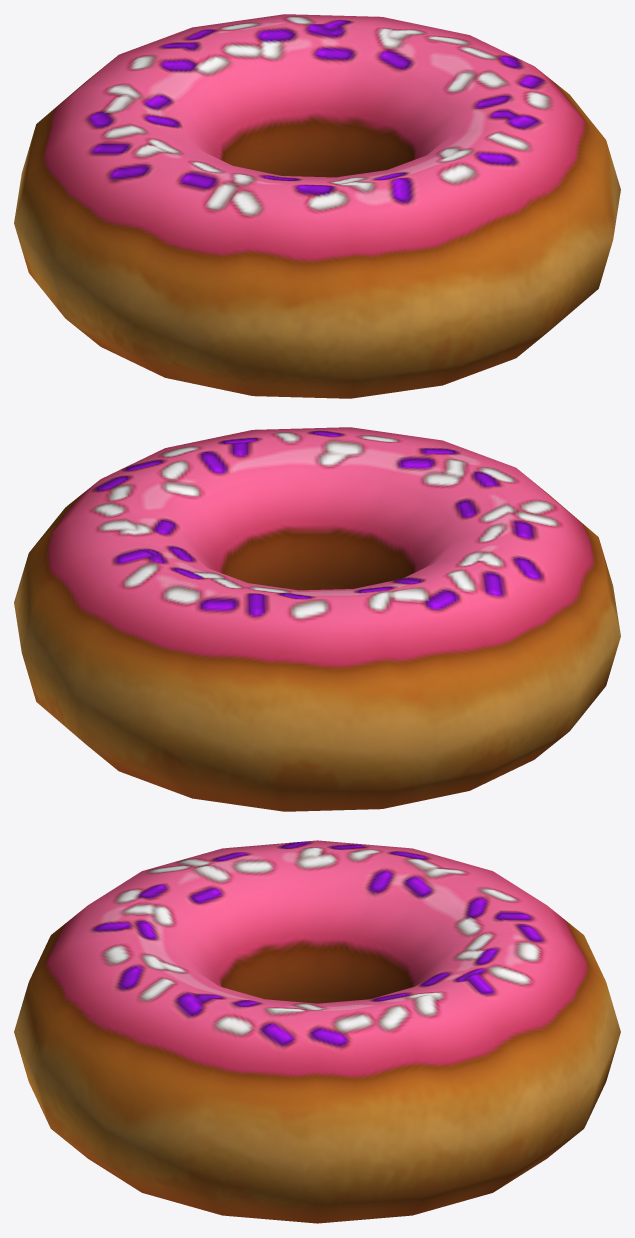
File: 007-Donut_01.FBX
3 views of the same model, one above another, from view 1: azimuth 30°, elevation 25°; view 2: azimuth 150°, elevation 25°; view 3: azimuth 270°, elevation 25° (orthographic).
Parts seen in each view (by area): view 1: 007-Donut_01; view 2: 007-Donut_01; view 3: 007-Donut_01.
Part boxes in pixels (bbox=[...]): 007-Donut_01: bbox=[14, 14, 620, 398]; 007-Donut_01: bbox=[14, 427, 620, 811]; 007-Donut_01: bbox=[14, 840, 620, 1223].
Bounding box in the file's own units: 15.88 × 5.77 × 15.88.
